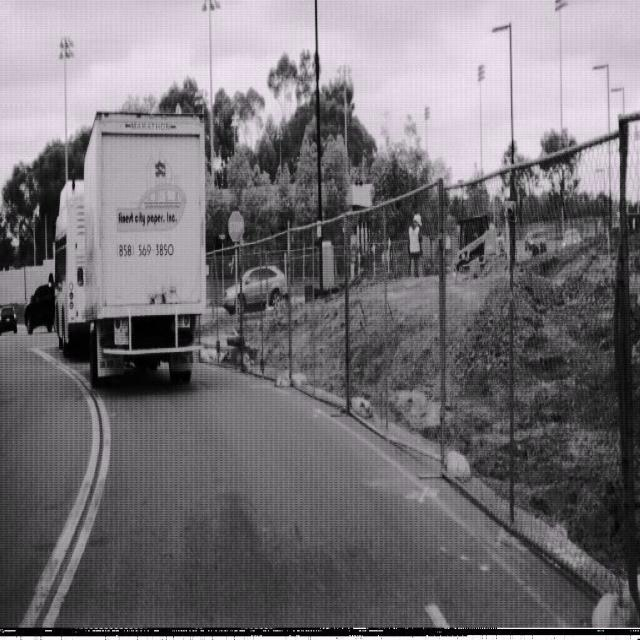stop_sign: (228, 210, 245, 242)
